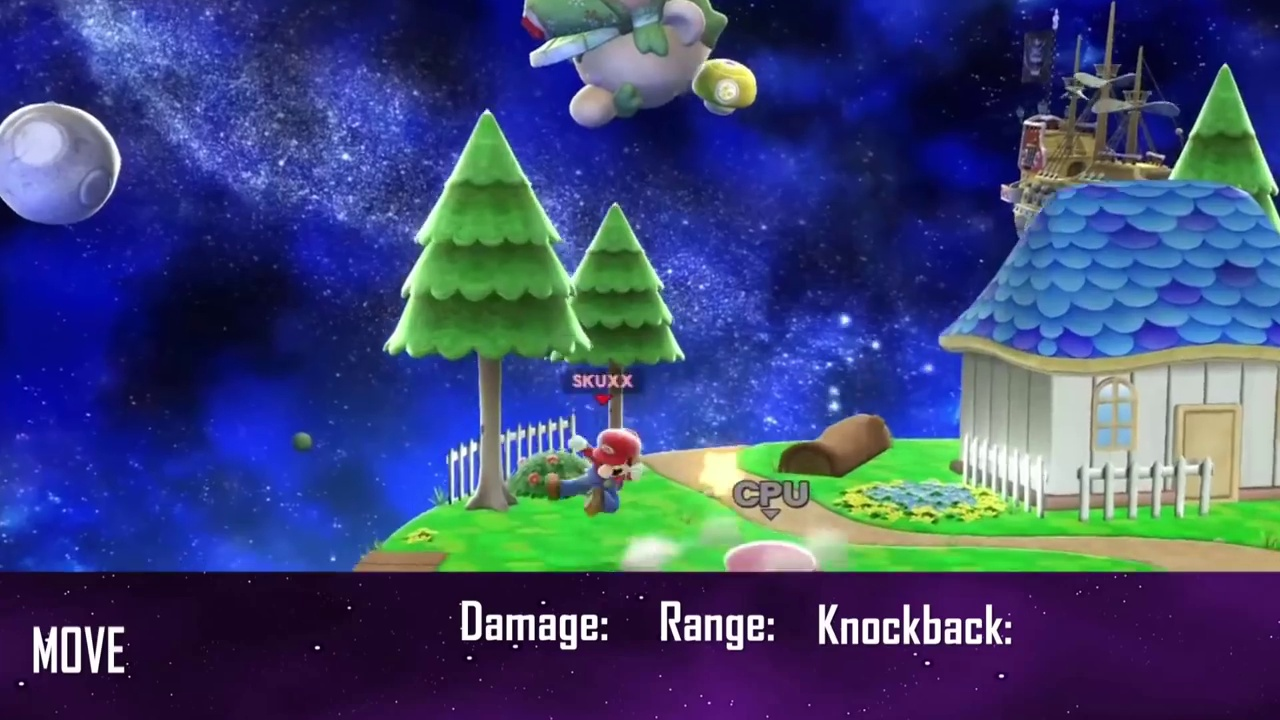Mario: (551, 427, 644, 516)
